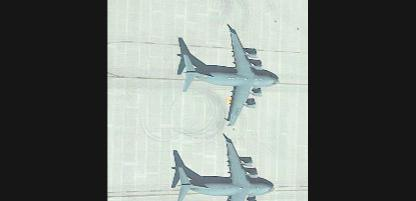C2: (183, 30, 280, 124), (176, 138, 276, 199)
